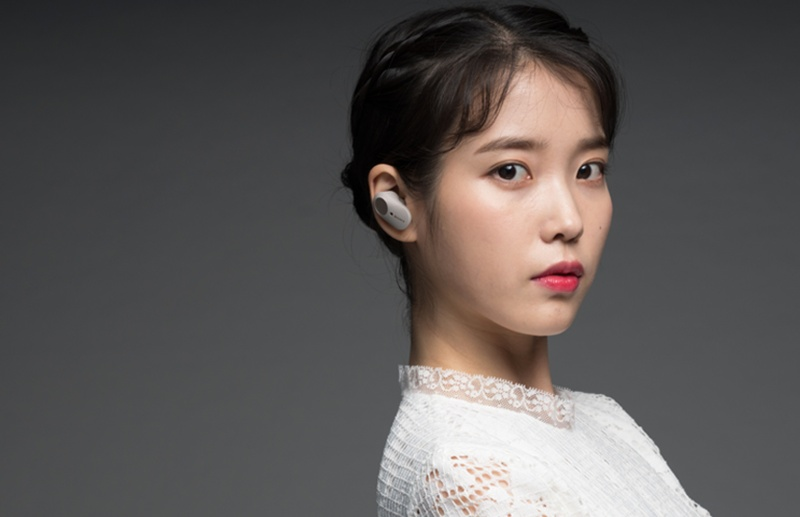earphone: (368, 163, 420, 243)
